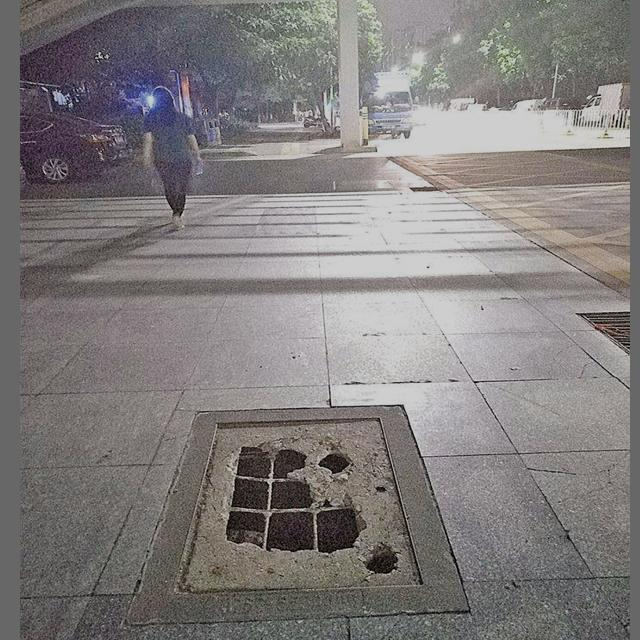broke: (125, 403, 479, 622)
